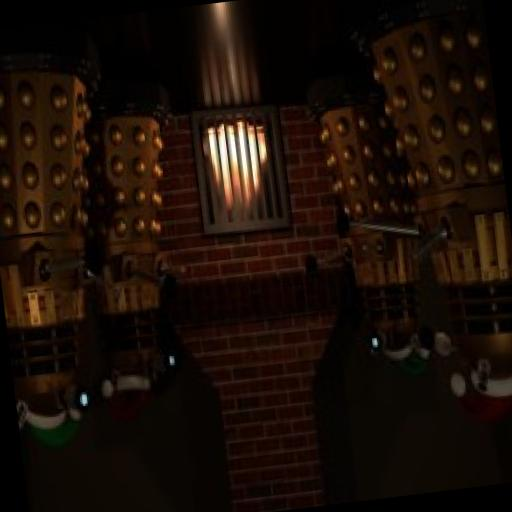dalek: (295, 0, 512, 445), (0, 27, 154, 456), (56, 81, 210, 421), (276, 65, 438, 385)
